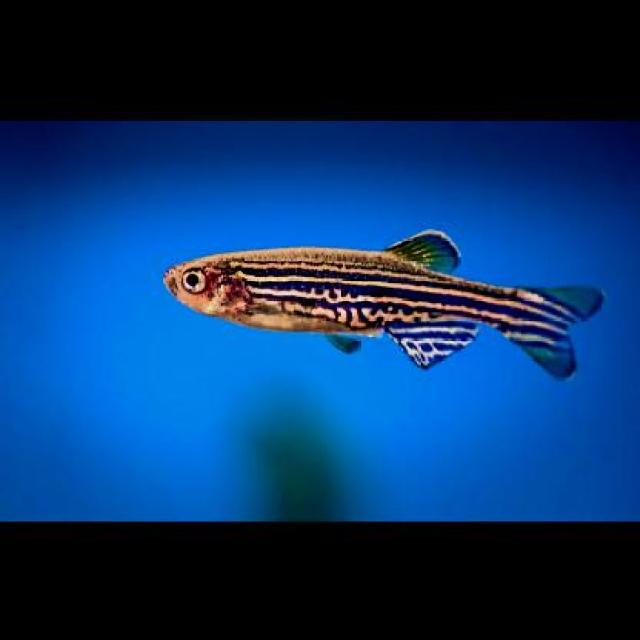ZebraFish: (160, 222, 603, 378)
